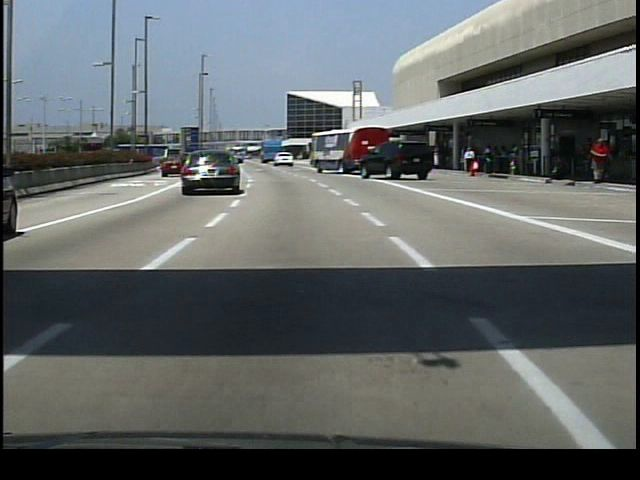person: (588, 136, 613, 186), (463, 145, 479, 179)
